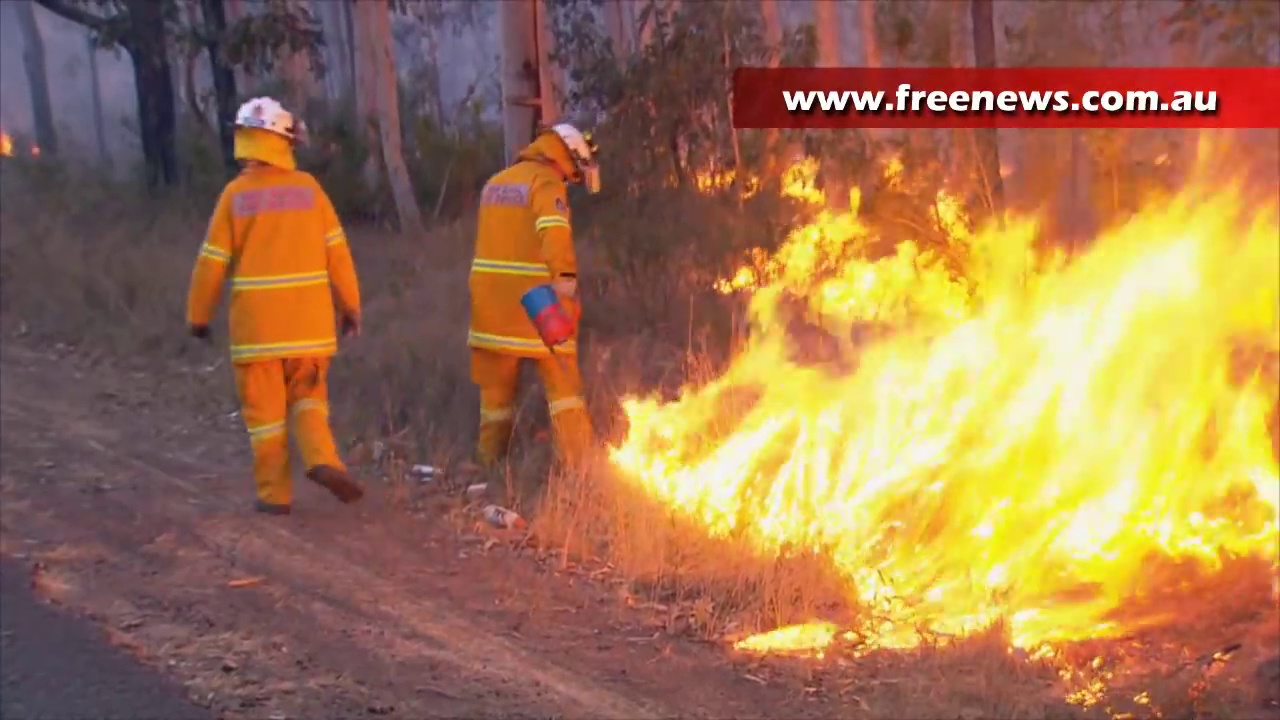fire: (618, 187, 1280, 648), (745, 623, 832, 652), (781, 159, 822, 201), (883, 156, 901, 175)
